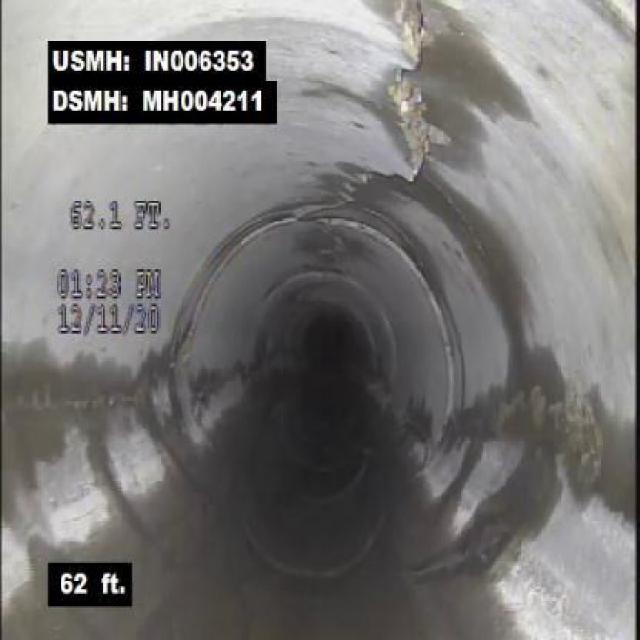Buckling: (378, 5, 438, 182)
Crack: (12, 380, 131, 420), (292, 170, 371, 222)
